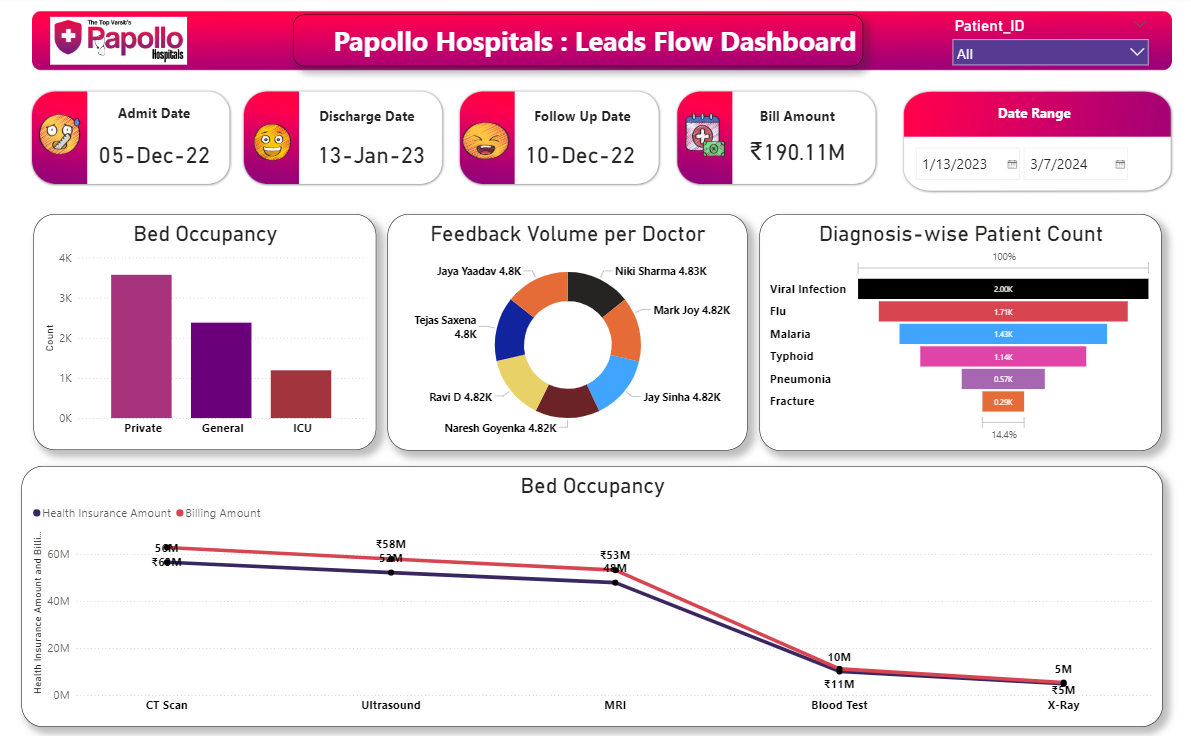

The page's visual inventory and layout, read from the dashboard file:
{"tool":"powerbi","page":{"name":"Page 2","canvas":[1680,1050],"ordinal":0},"visuals":[{"type":"textbox","box":[410,28,794,72],"z":0},{"type":"image","box":[2636.7,100,623.3,150],"z":1000},{"type":"slicer","fields":{"Values":["Sheet1.Patient_ID"]},"box":[2400,373.3,793.3,420],"z":2000},{"type":"card","fields":{"Values":["Sheet1.Admit_Date"]},"box":[437.6,198.8,162.9,42.8],"z":3000},{"type":"card","fields":{"Values":["Sheet1.Discharge_Date"]},"box":[129.8,198.8,172.6,42.8],"z":4000},{"type":"card","fields":{"Values":["Sheet1.Followup Date"]},"box":[724.3,198.6,167.1,42.9],"z":5000},{"type":"textbox","box":[152.9,145.7,127.1,57.1],"z":6000},{"type":"textbox","box":[437.1,151.4,151.4,37.1],"z":7000},{"type":"textbox","box":[732.9,151.4,158.6,37.1],"z":8000},{"type":"textbox","box":[1035.7,151.4,151.4,37.1],"z":9000},{"type":"card","fields":{"Values":["Sheet1.Billing Amount"]},"box":[1031.4,194.3,158.6,42.9],"z":10000},{"type":"image","box":[50,157.1,68.6,74.3],"z":11000},{"type":"image","box":[348.6,172.9,62.9,62.9],"z":12000},{"type":"image","box":[640,171.4,77.1,62.9],"z":13000},{"type":"image","box":[951.4,158.6,65.7,71.4],"z":14000},{"type":"columnChart","title":"Bed Occupancy","fields":{"Category":["Sheet1.Bed_Occupancy"],"Y":["Sheet1.Bed_Occupancy"]},"box":[47.1,305.7,477.1,328.6],"z":15000},{"type":"donutChart","title":"Feedback Volume per Doctor","fields":{"Category":["Sheet1.Doctor"],"Y":["Sheet1.Feedback"]},"box":[540.2,305.2,501,329.5],"z":16000},{"type":"funnel","title":"Diagnosis-wise Patient Count","fields":{"Category":["Sheet1.Diagnosis"],"Y":["Sheet1.Diagnosis"]},"box":[1060,305.7,560,330],"z":17000},{"type":"image","box":[30,24.3,274.3,77.1],"z":18000},{"type":"lineChart","title":"Bed Occupancy","fields":{"Y":["Sheet1.Health Insurance Amount","Sheet1.Billing Amount"],"Category":["Sheet1.Test"]},"box":[31.1,656.3,1589.5,363.3],"z":19000},{"type":"slicer","fields":{"Values":["Sheet1.Admit_Date"]},"box":[1264,202,346,62],"z":20000},{"type":"slicer","fields":{"Values":["Sheet1.Patient_ID"]},"box":[1317.1,24.3,292.9,82.9],"z":21000},{"type":"textbox","box":[1365.7,145.7,151.4,37.1],"z":22000}]}

Visuals, with their boxes in screenshot pixels (x1, y1, x2, y2), scaled from the page's 1680x1050 canvas onto the 1191x736 screenshot:
textbox: 291,20,854,70
card - Sheet1.Admit_Date: 310,139,426,169
card - Sheet1.Discharge_Date: 92,139,214,169
card - Sheet1.Followup Date: 513,139,632,169
textbox: 108,102,198,142
textbox: 310,106,417,132
textbox: 520,106,632,132
textbox: 734,106,842,132
card - Sheet1.Billing Amount: 731,136,844,166
image: 35,110,84,162
image: 247,121,292,165
image: 454,120,508,164
image: 674,111,721,161
"Bed Occupancy" columnChart: 33,214,372,445
"Feedback Volume per Doctor" donutChart: 383,214,738,445
"Diagnosis-wise Patient Count" funnel: 751,214,1148,446
image: 21,17,216,71
"Bed Occupancy" lineChart: 22,460,1149,715
slicer - Sheet1.Admit_Date: 896,142,1141,185
slicer - Sheet1.Patient_ID: 934,17,1141,75
textbox: 968,102,1076,128
